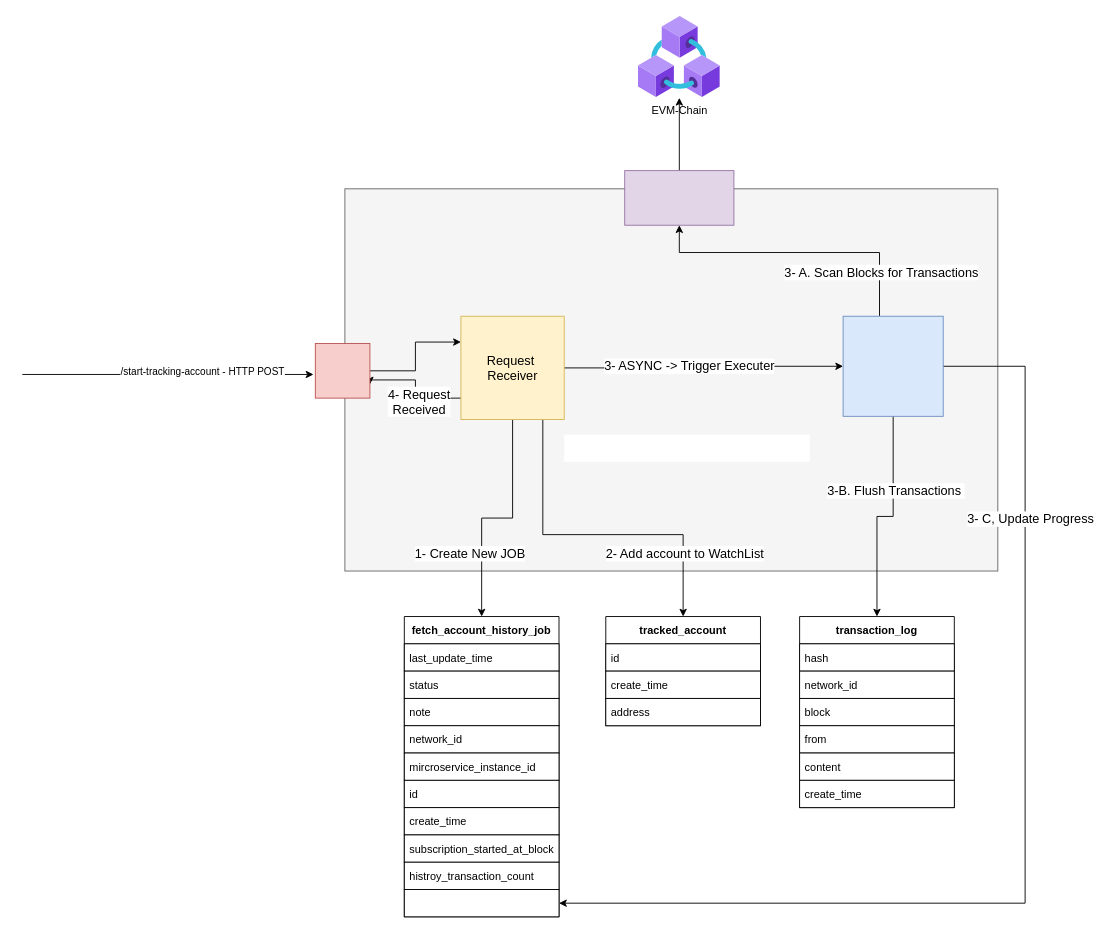
Some shapes in this 1109 by 933 pixel diagram are drawn without their labels. The shapes that lost their labels are listed below. From the top down, each one's centre as x and y in pixels, then its label:
point (679, 197): EVM Gateway
point (342, 370): REST API
point (892, 365): Job Executer
point (686, 447): StartTrackingAccountService
point (481, 903): most_recent_synced_block
